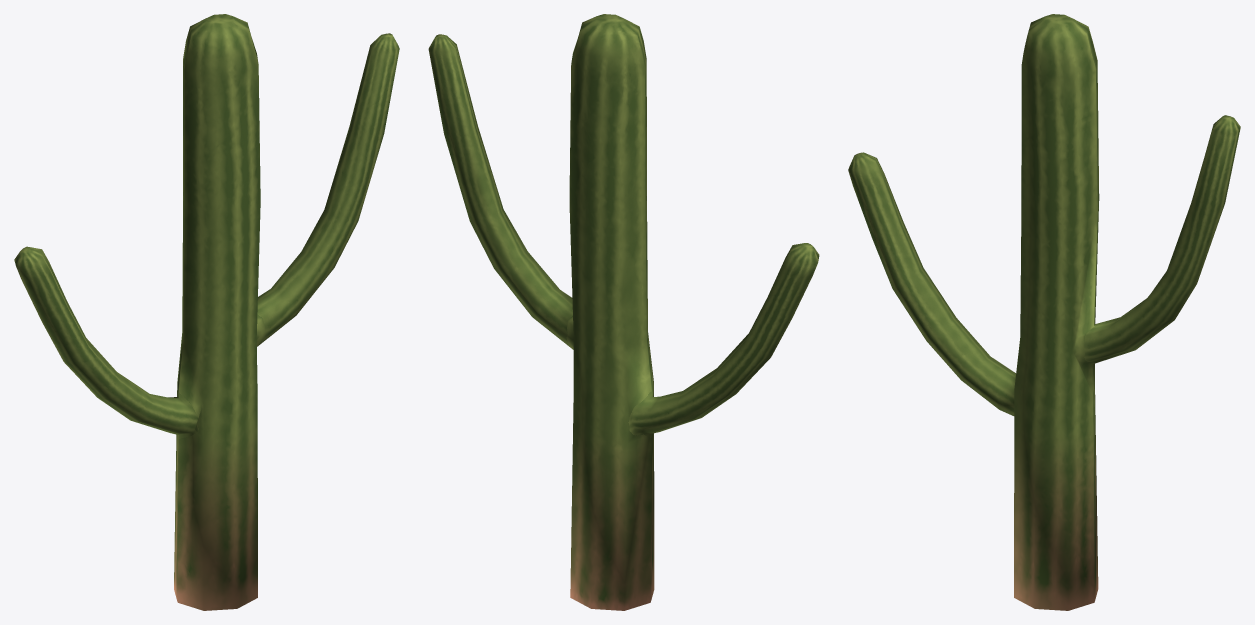
File: cactus_3.glb
3 views of the same model, side by side, from view 1: azimuth 30°, elevation 25°; view 2: azimuth 150°, elevation 25°; view 3: azimuth 330°, elevation 25° (orthographic).
Visible parts, largest first — view 1: cactus_3_cacturs_3_0; view 2: cactus_3_cacturs_3_0; view 3: cactus_3_cacturs_3_0.
Part boxes in pixels (bbox=[...]): cactus_3_cacturs_3_0: bbox=[14, 14, 399, 610]; cactus_3_cacturs_3_0: bbox=[428, 14, 819, 610]; cactus_3_cacturs_3_0: bbox=[848, 14, 1240, 610].
Size of the model in its own units: 2.28 by 3.25 by 0.4359.
1 material, 1 textured.
